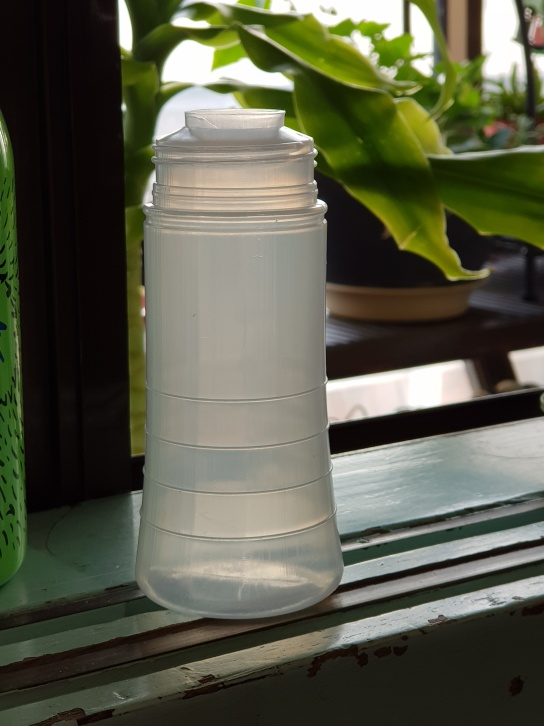Plastic: (134, 104, 349, 621)
